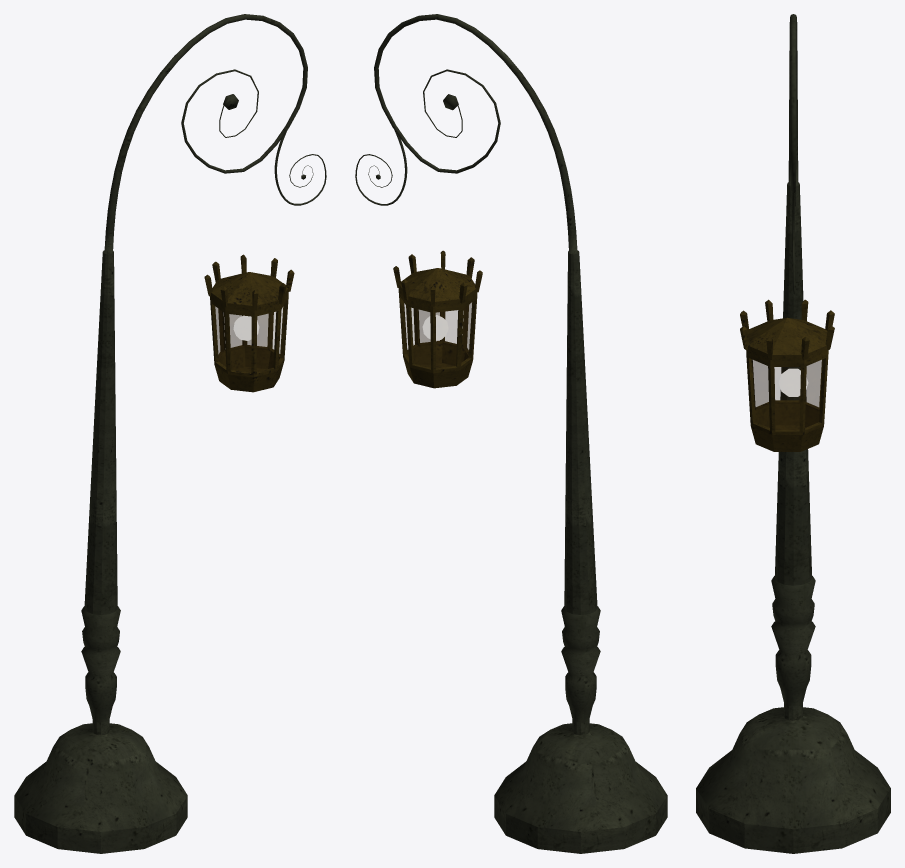
3 views of the same model, side by side, from view 1: azimuth 30°, elevation 25°; view 2: azimuth 150°, elevation 25°; view 3: azimuth 270°, elevation 25° (orthographic). The views are drawn at different scales.
Visible parts, largest first — view 1: Farola; view 2: Farola; view 3: Farola.
Part boxes in pixels (left/top/right/bottom): Farola: left=14, top=14, right=326, bottom=853; Farola: left=355, top=14, right=667, bottom=853; Farola: left=696, top=14, right=890, bottom=853.
Bounding box in the file's own units: 1.34 × 3.27 × 0.6694.
